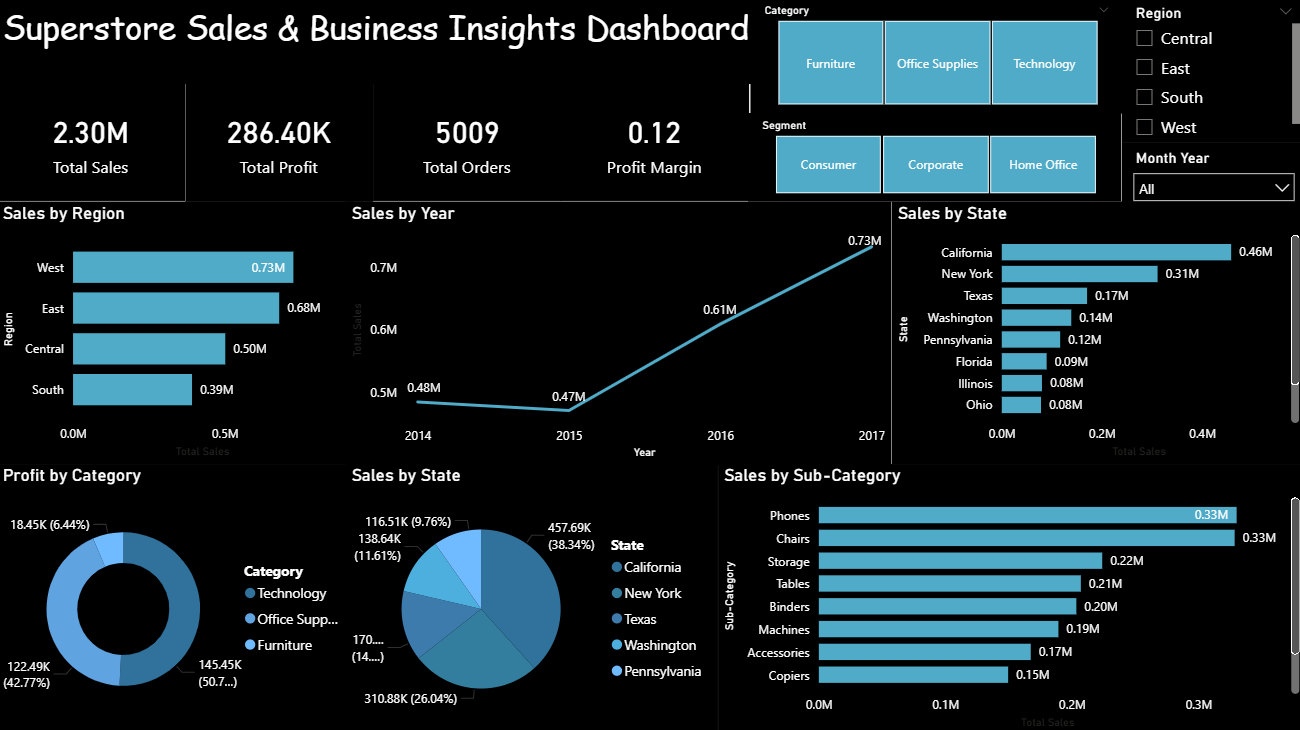

What the dashboard file says about the page in this screenshot:
{"tool":"powerbi","page":{"name":"Page 1","canvas":[1280,720],"ordinal":0},"visuals":[{"type":"card","fields":{"Values":["Sample - Superstore.Total Sales"]},"box":[0,83.7,183.9,115.3],"z":0},{"type":"card","fields":{"Values":["Sample - Superstore.Total Profit"]},"box":[185,83.6,182.9,115.7],"z":1000},{"type":"card","fields":{"Values":["Sample - Superstore.Total Orders"]},"box":[367.8,83.7,183.9,115.3],"z":2000},{"type":"card","fields":{"Values":["Sample - Superstore.Profit Margin"]},"box":[551.6,83.7,183.9,115.3],"z":3000},{"type":"clusteredBarChart","title":"Sales by Region","fields":{"Category":["Sample - Superstore.Region"],"Y":["Sample - Superstore.Total Sales"]},"box":[0,199,348.5,256.6],"z":4000},{"type":"donutChart","title":"Profit by Category","fields":{"Category":["Sample - Superstore.Category"],"Y":["Sample - Superstore.Total Profit"]},"box":[0,455.6,349.9,264.8],"z":5000},{"type":"lineChart","title":"Sales by Year","fields":{"Y":["Sample - Superstore.Total Sales"],"Category":["Sample - Superstore.Year"]},"box":[341.7,199,533.8,258],"z":6000},{"type":"pieChart","title":"Sales by State","fields":{"Category":["Sample - Superstore.State"],"Y":["Sample - Superstore.Total Sales"]},"box":[341.7,455.6,363.6,264.8],"z":7000},{"type":"barChart","title":"Sales by State","fields":{"Category":["Sample - Superstore.State"],"Y":["Sample - Superstore.Total Sales"]},"box":[875.5,199,404.8,256.6],"z":8000},{"type":"clusteredBarChart","title":"Sales by Sub-Category","fields":{"Y":["Sample - Superstore.Total Sales"],"Category":["Sample - Superstore.Sub-Category"]},"box":[705.3,455.6,575,264.8],"z":9000},{"type":"textbox","box":[0,0,756.1,83.7],"z":10000},{"type":"slicer","fields":{"Values":["Sample - Superstore.Region"]},"box":[1100,0,180,141.4],"z":11000},{"type":"slicer","fields":{"Values":["Sample - Superstore.Category"]},"box":[736.9,0,363.6,112.5],"z":12000},{"type":"slicer","fields":{"Values":["Sample - Superstore.Month Year"]},"box":[1100.5,141.3,179.8,57.6],"z":13000},{"type":"slicer","fields":{"Values":["Sample - Superstore.Segment"]},"box":[735.5,112.5,365,86.4],"z":14000}]}

Visuals, with their boxes in screenshot pixels (x1, y1, x2, y2), scaled from the page's 1280x720 canvas onto the 1300x730 screenshot:
card - Sample - Superstore.Total Sales: bbox=[0, 85, 187, 202]
card - Sample - Superstore.Total Profit: bbox=[188, 85, 374, 202]
card - Sample - Superstore.Total Orders: bbox=[374, 85, 560, 202]
card - Sample - Superstore.Profit Margin: bbox=[560, 85, 747, 202]
"Sales by Region" clusteredBarChart: bbox=[0, 202, 354, 462]
"Profit by Category" donutChart: bbox=[0, 462, 355, 729]
"Sales by Year" lineChart: bbox=[347, 202, 889, 463]
"Sales by State" pieChart: bbox=[347, 462, 716, 729]
"Sales by State" barChart: bbox=[889, 202, 1299, 462]
"Sales by Sub-Category" clusteredBarChart: bbox=[716, 462, 1299, 729]
textbox: bbox=[0, 0, 768, 85]
slicer - Sample - Superstore.Region: bbox=[1117, 0, 1299, 143]
slicer - Sample - Superstore.Category: bbox=[748, 0, 1118, 114]
slicer - Sample - Superstore.Month Year: bbox=[1118, 143, 1299, 202]
slicer - Sample - Superstore.Segment: bbox=[747, 114, 1118, 202]
